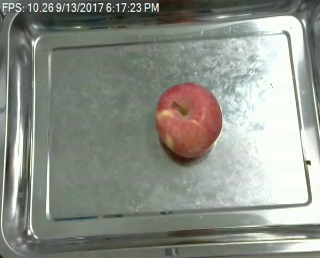Apple: (155, 82, 222, 158)
